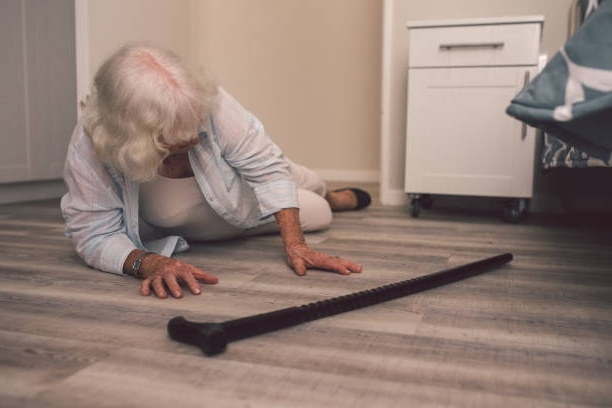fall: (54, 40, 371, 304)
